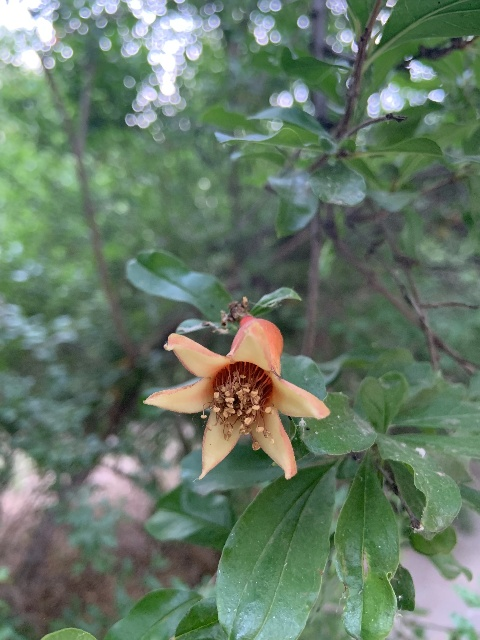flower: (143, 316, 330, 481)
